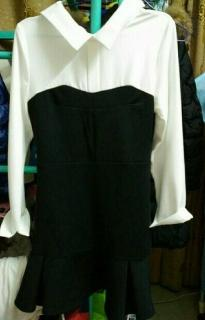long sleeve dress: (0, 0, 194, 320)
